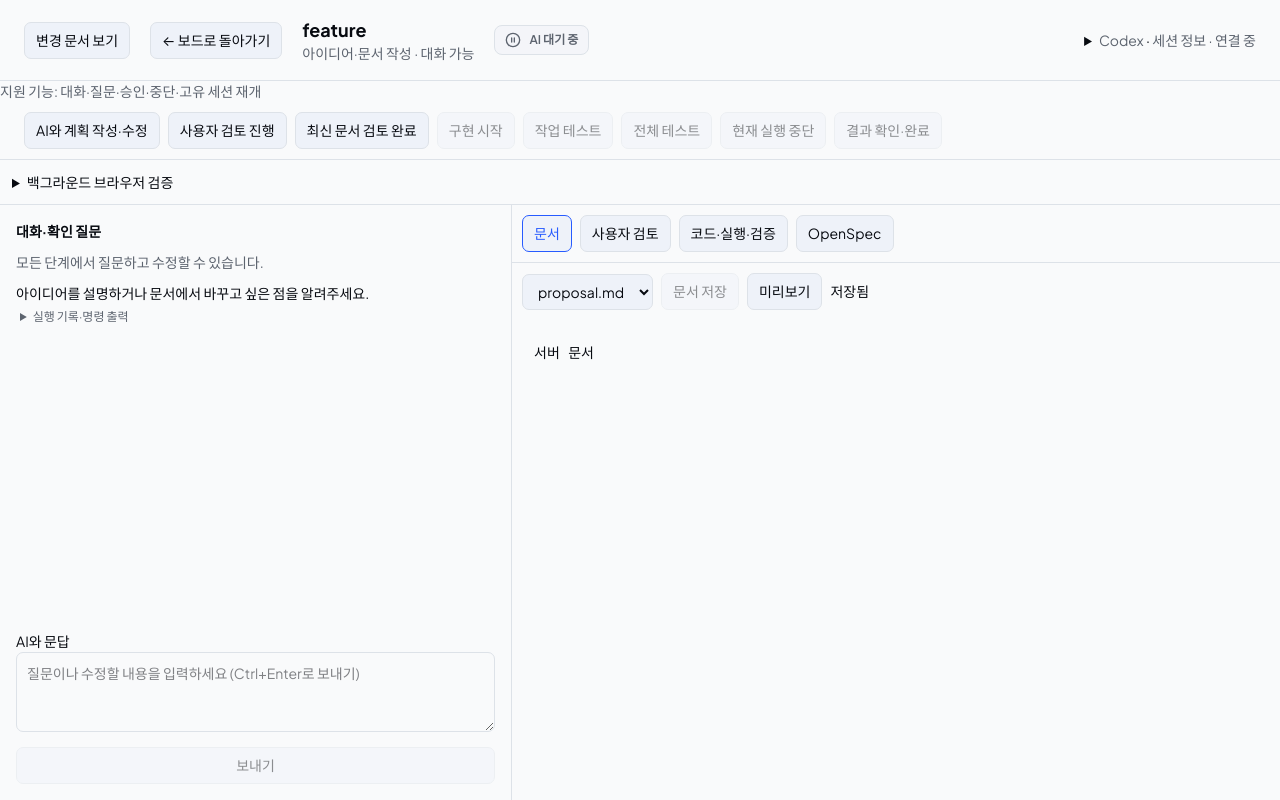
it: 이벤트가 없는 재연결에서도 업무 상태를 다시 조회하고 초안을 유지한다
The width and height of the screenshot is (1280, 800).
Replace the text in the text box named "문서 내용" with "재연결 중에도 유지할 초안": coordinates (896, 560) [512,320,1279,799]
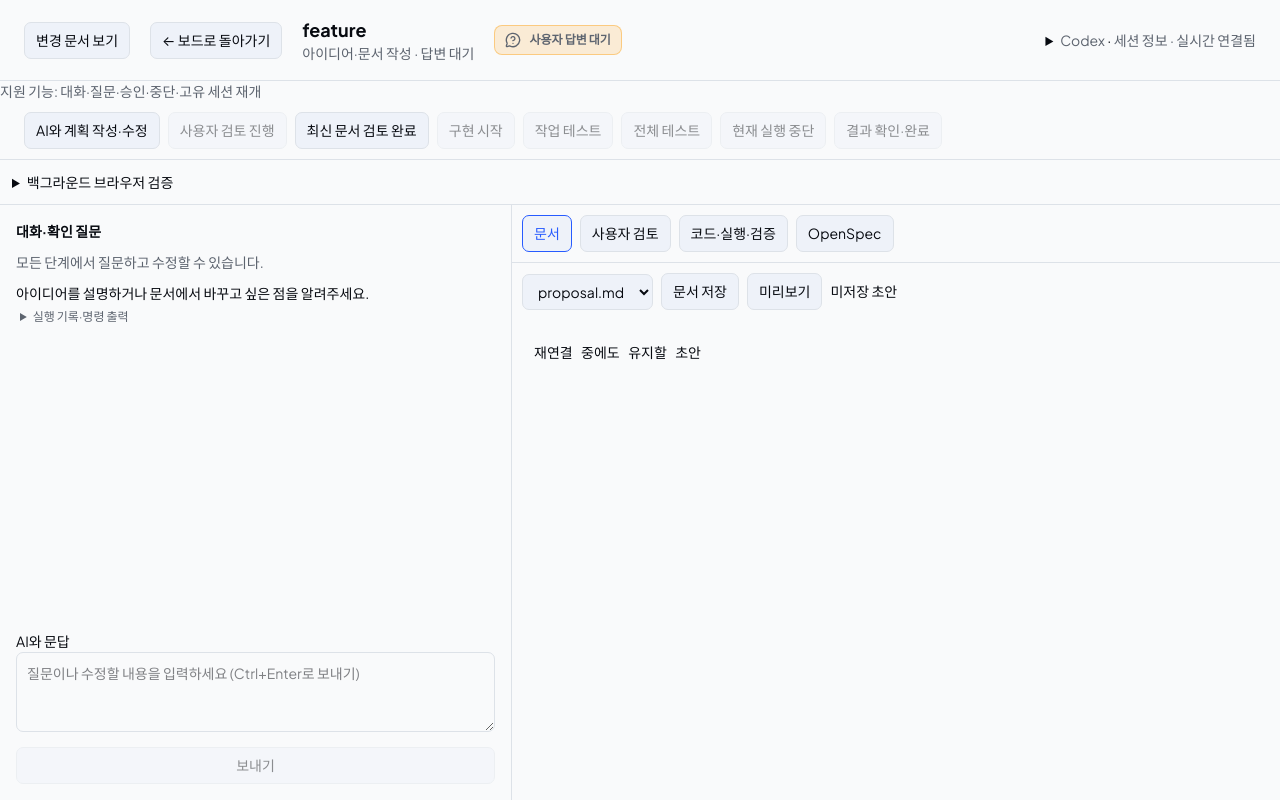
Expected: the text "아이디어·문서 작성 · 답변 대기" is shown, [302,44,474,62]
